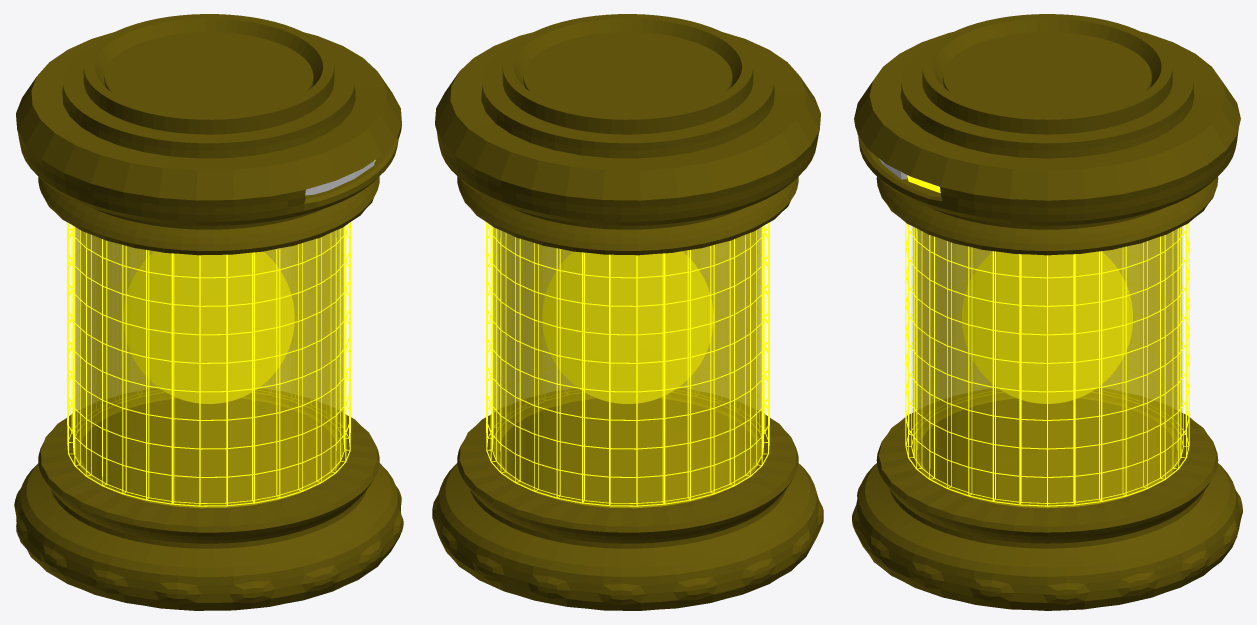
3 renders of one model, left to right at view 1: azimuth 30°, elevation 25°; view 2: azimuth 150°, elevation 25°; view 3: azimuth 270°, elevation 25°, orthographic.
Visible parts, largest first — view 1: 円柱.002, 円柱.001, 球, 円柱; view 2: 円柱.002, 円柱.001, 球, 円柱; view 3: 円柱.002, 円柱.001, 球, 円柱.
Boxes of the visible parts, box(x1,y1,x2,y2) form: 円柱.002: box(14, 14, 403, 610); 円柱.001: box(75, 227, 343, 508); 球: box(123, 251, 294, 403); 円柱: box(67, 222, 350, 506); 円柱.002: box(432, 14, 823, 610); 円柱.001: box(493, 227, 761, 508); 球: box(542, 251, 713, 403); 円柱: box(486, 222, 769, 506); 円柱.002: box(852, 14, 1242, 610); 円柱.001: box(912, 227, 1182, 508); 球: box(962, 251, 1132, 403); 円柱: box(905, 222, 1189, 506).
Bounding box in the file's own units: 276 × 371 × 276.
